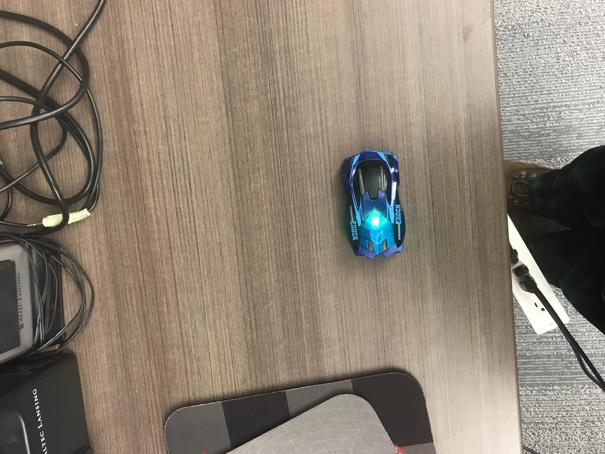Shock: (341, 149, 406, 261)
